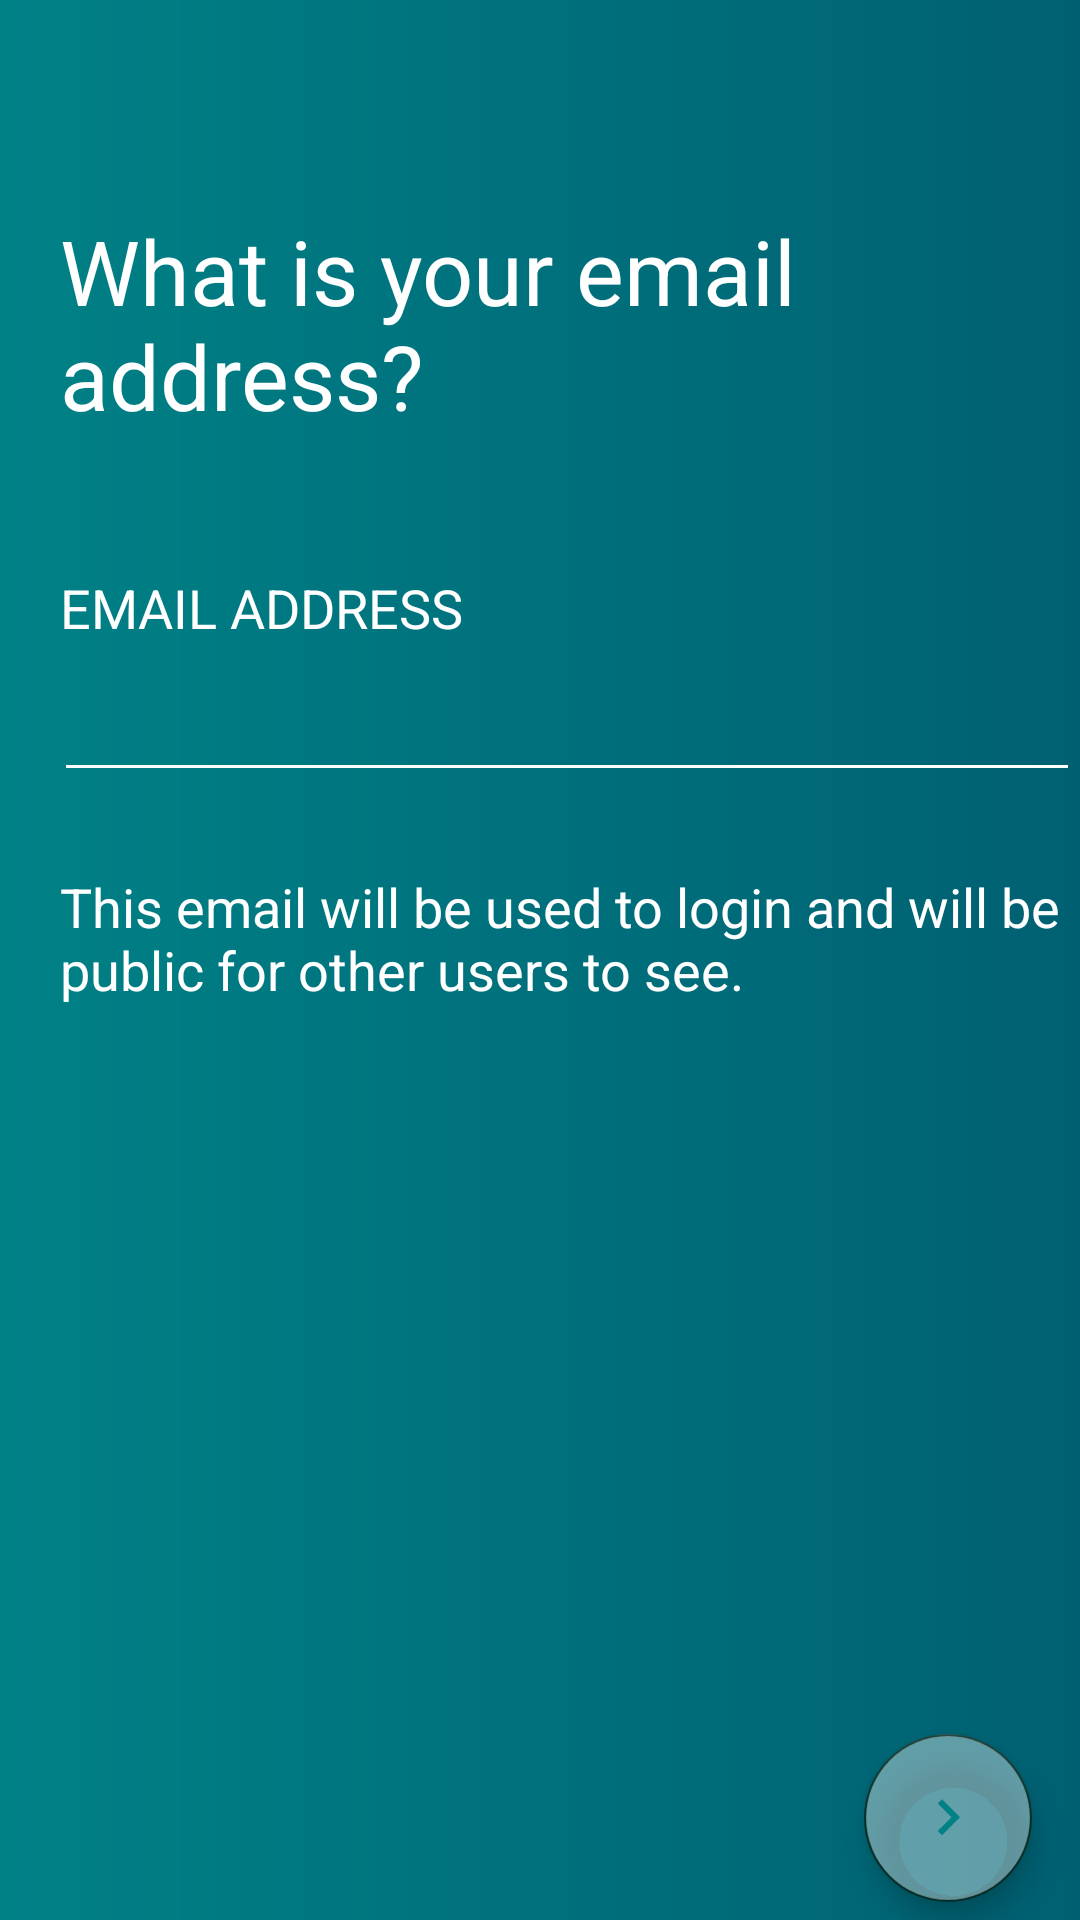

Named icons in this screenshot (1080px x 1920px) and their bounding boxes, {"x1": x1, "y1": y1, "x2": x2, "y2": y2}:
right arrow: {"x1": 864, "y1": 1734, "x2": 1032, "y2": 1902}
